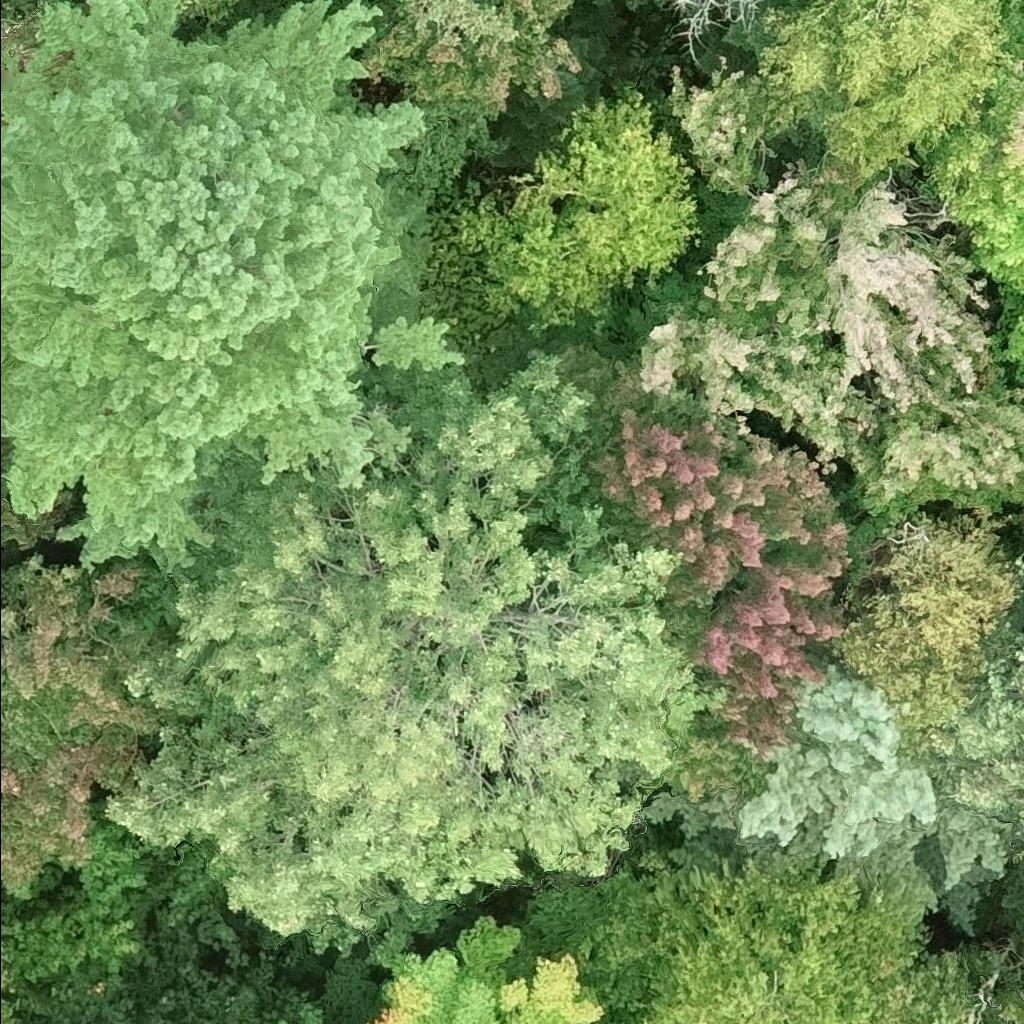crown: (0, 0, 464, 570), (457, 91, 700, 333), (357, 0, 577, 208), (757, 0, 1010, 180), (914, 16, 1023, 386), (0, 438, 83, 548), (674, 0, 756, 58), (408, 0, 514, 38), (0, 0, 49, 60), (175, 0, 241, 25), (999, 0, 1023, 21), (597, 0, 607, 3)
